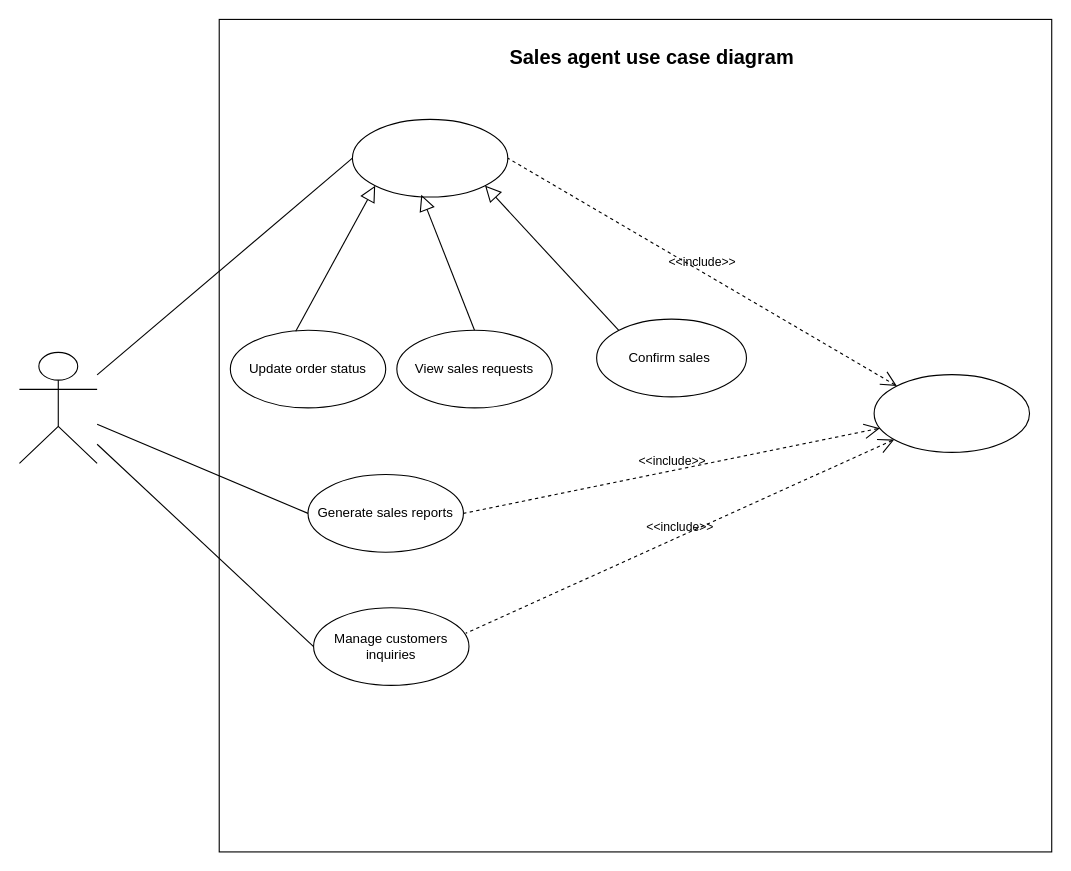
Image size: 1071x871. Some labels were removed from this diagram. The centre of each missing label's shape, as x and y in pixels:
"Authenticaiton" belongs at point (951, 413).
"Process sales orders" belongs at point (429, 157).
"Sales agent" belongs at point (57, 407).
